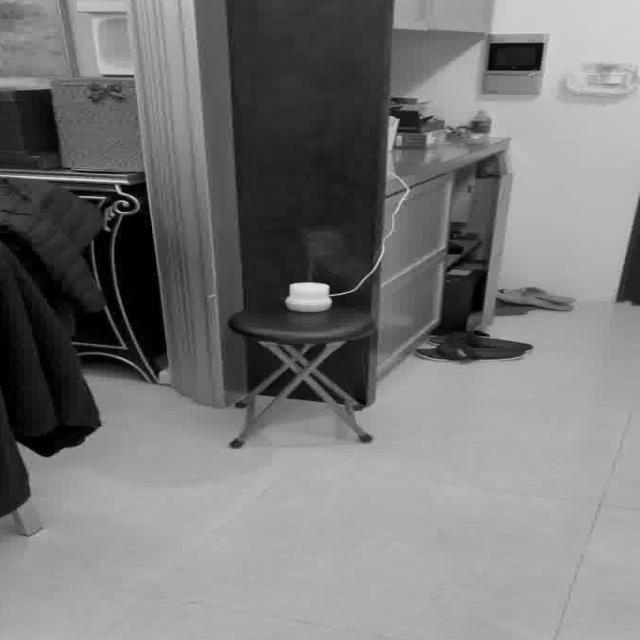fire: (296, 224, 355, 276)
